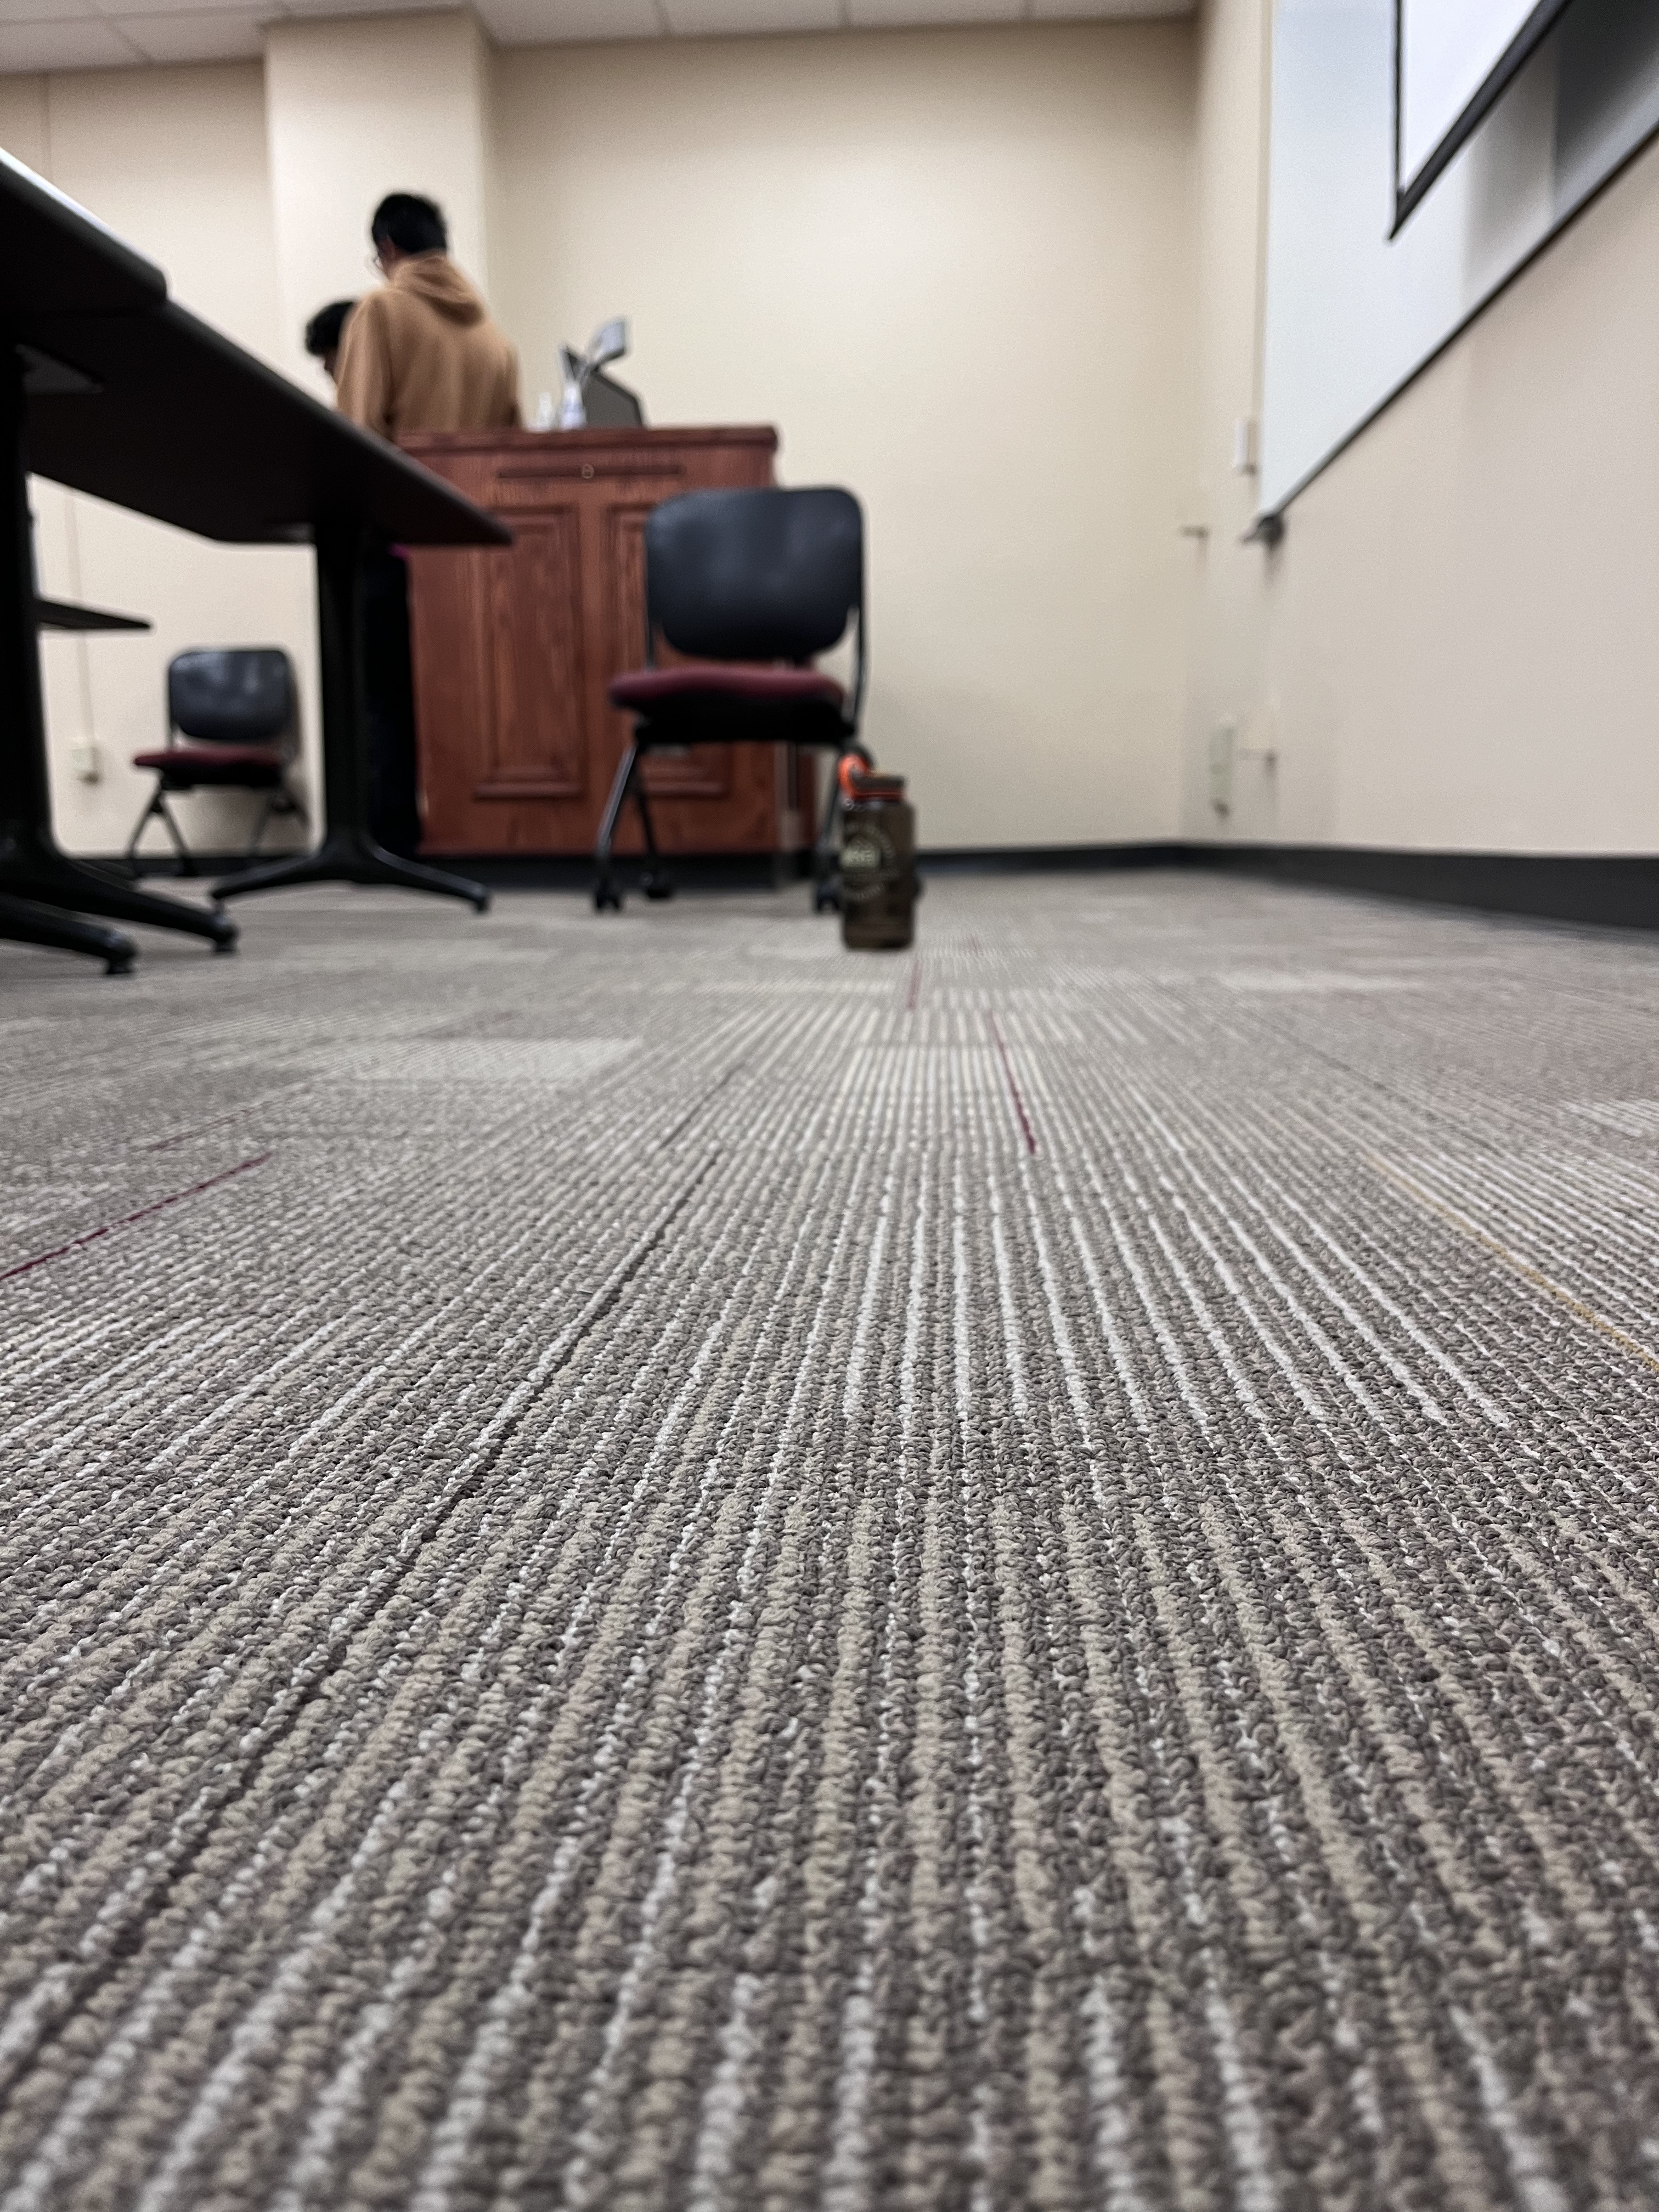bottle: (835, 745, 918, 963)
